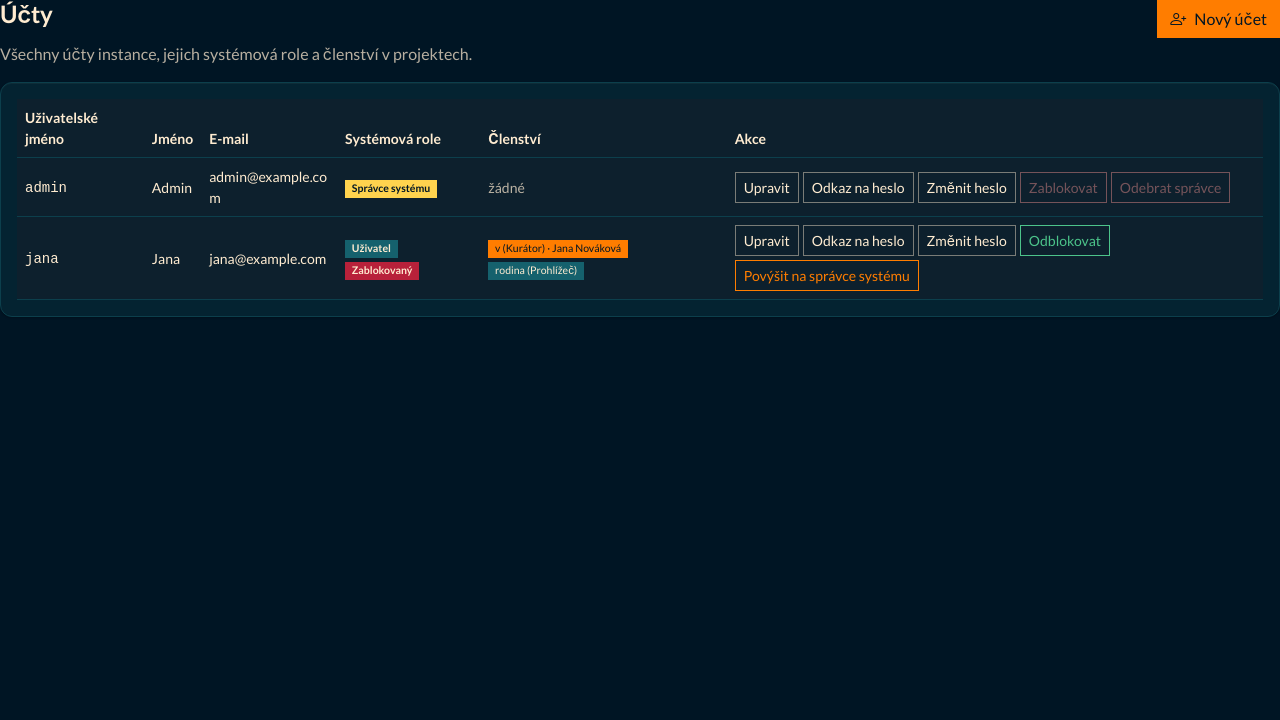
Scenario: SystemUsersPage › edits the account record, renaming first, and touches no membership
Expected: the text "jana" is shown, [25, 250, 59, 266]
Click the button "Upravit" in the row of "jana@example.com" at (767, 240), box [735, 225, 799, 256]
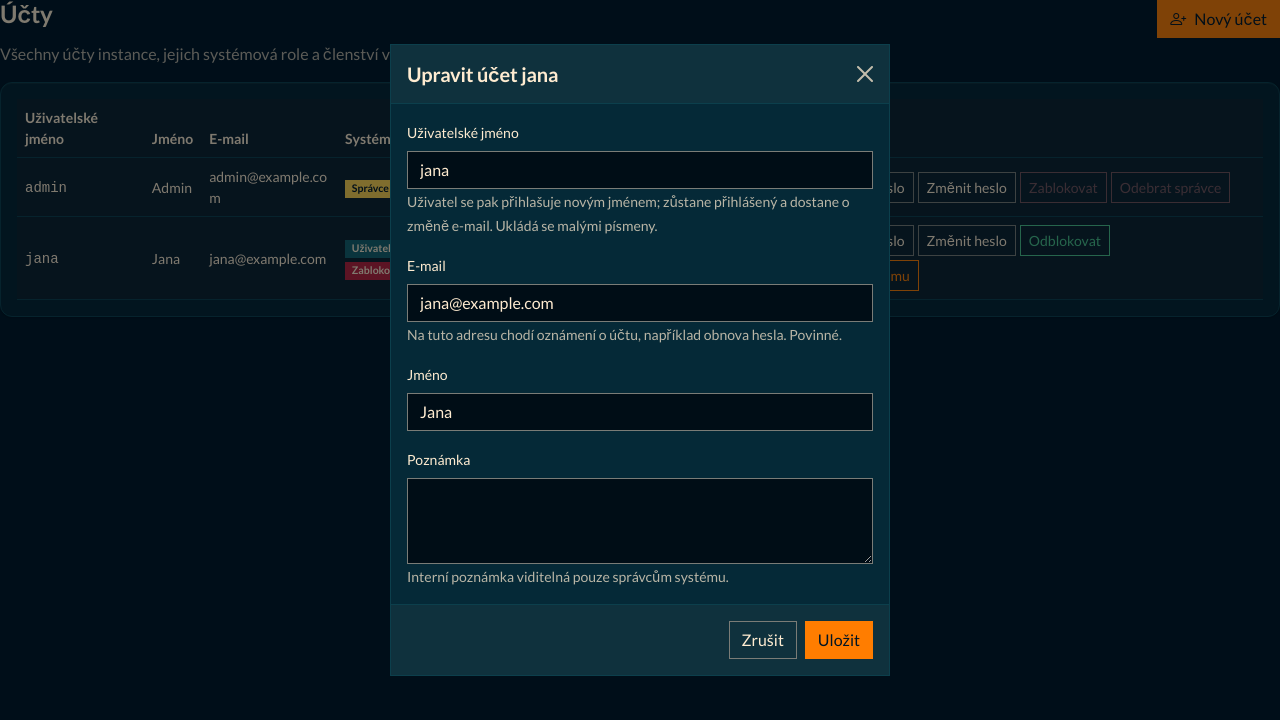
Replace the text in the field labelled "Uživatelské jméno" with "janka" at (640, 170), box [407, 151, 873, 189]
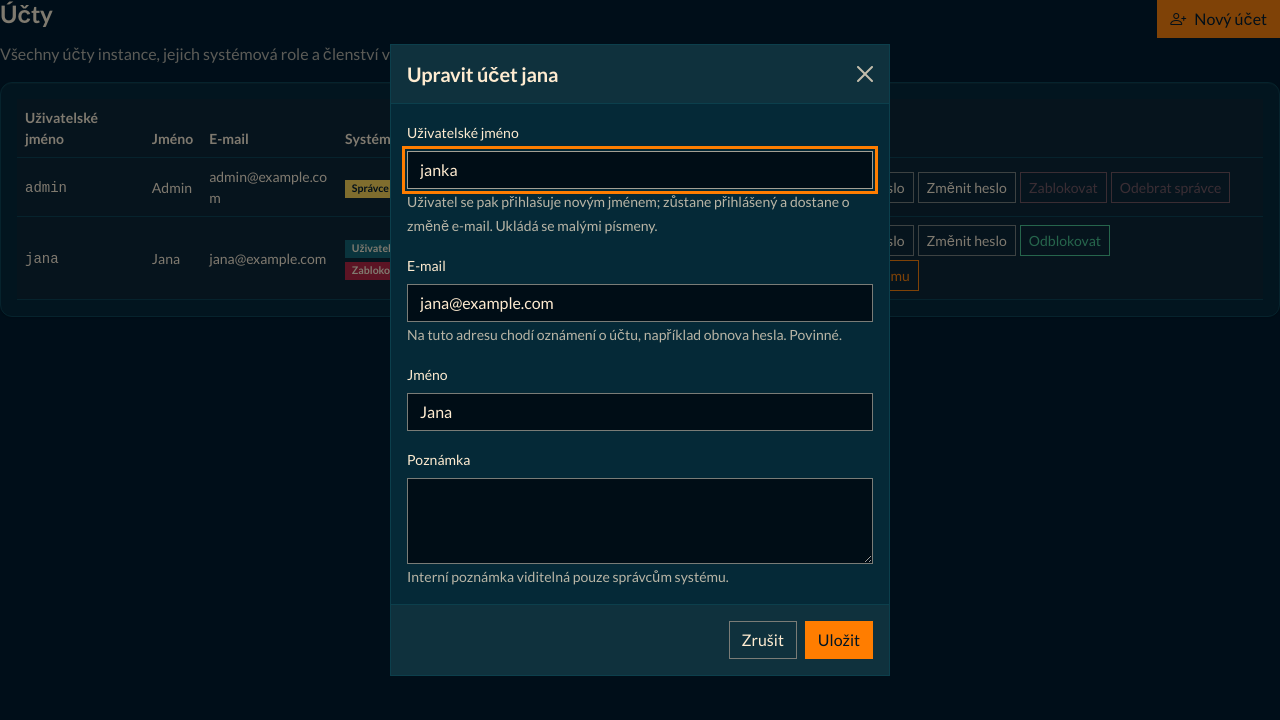
Replace the text in the field labelled "E-mail" with "jana@new.example" at (640, 303), box [407, 284, 873, 322]
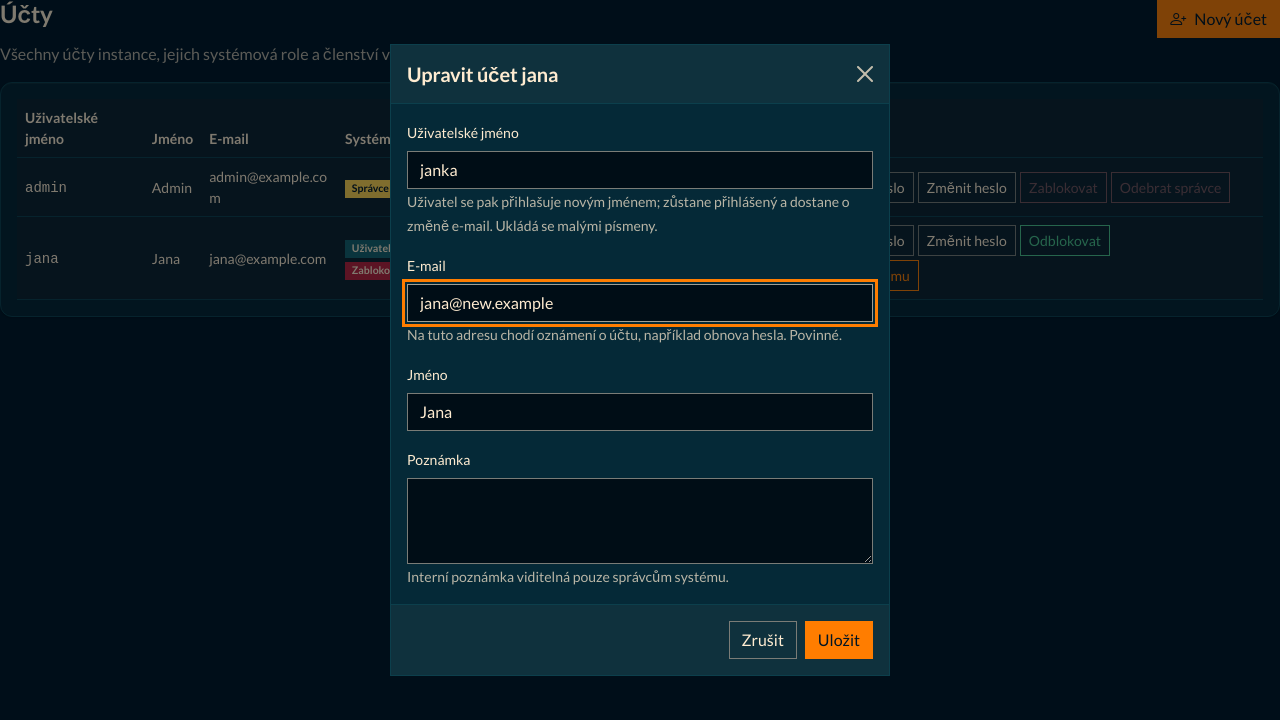
Click the button "Uložit" at (839, 640), box [805, 621, 873, 659]
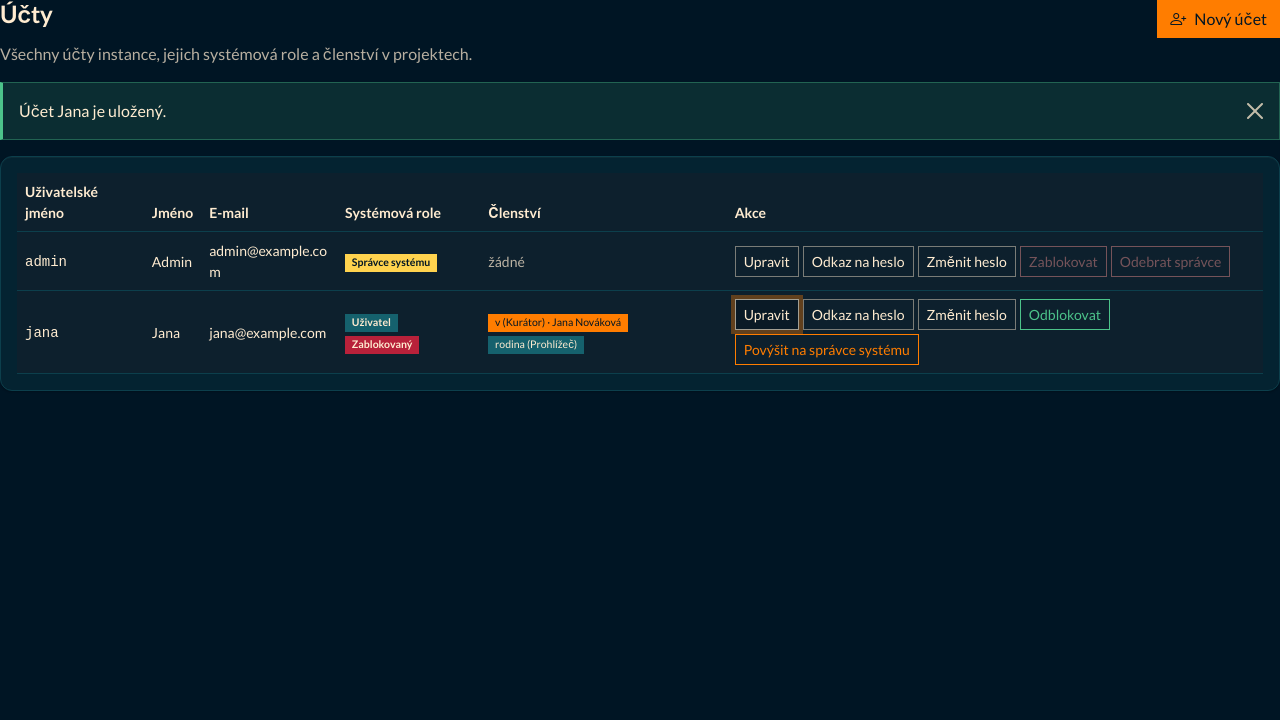
Now the text "Účet Jana je uložený." is shown, box [0, 82, 1279, 140]
